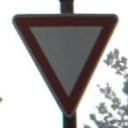preferencia: (10, 11, 116, 116)
